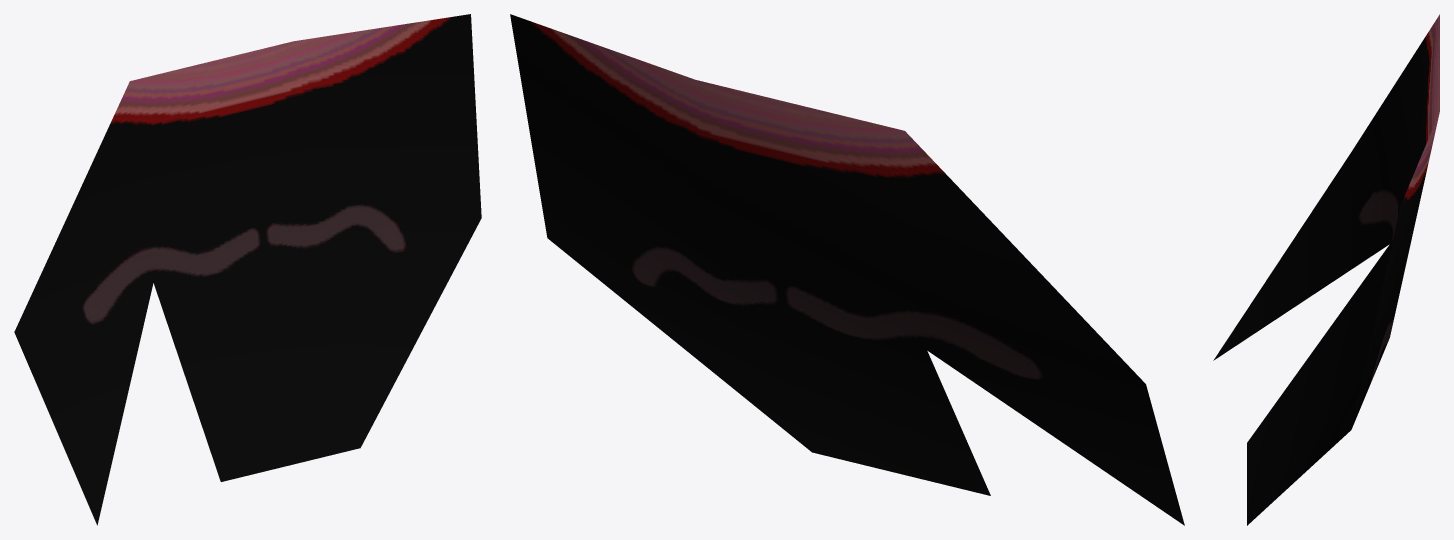
The model's file is 29-Crying-Sad-Cute-Closed-Eyes-Anime-Chibi-mouth.glb.
3 renders of one model, left to right at view 1: azimuth 30°, elevation 25°; view 2: azimuth 150°, elevation 25°; view 3: azimuth 270°, elevation 25°, orthographic. The views are drawn at different scales.
Parts seen in each view (by area): view 1: 29-Crying-Sad-Cute-Closed-Eyes-Anime-Chibi-mouth; view 2: 29-Crying-Sad-Cute-Closed-Eyes-Anime-Chibi-mouth; view 3: 29-Crying-Sad-Cute-Closed-Eyes-Anime-Chibi-mouth.
Part boxes in pixels (x1,y1,x2,y2): 29-Crying-Sad-Cute-Closed-Eyes-Anime-Chibi-mouth: (14, 14, 481, 525); 29-Crying-Sad-Cute-Closed-Eyes-Anime-Chibi-mouth: (510, 14, 1184, 525); 29-Crying-Sad-Cute-Closed-Eyes-Anime-Chibi-mouth: (1213, 14, 1439, 525).
Size of the model in its own units: 0.3059 by 0.2122 by 0.1035.
Materials: 1 (1 with a texture image).
